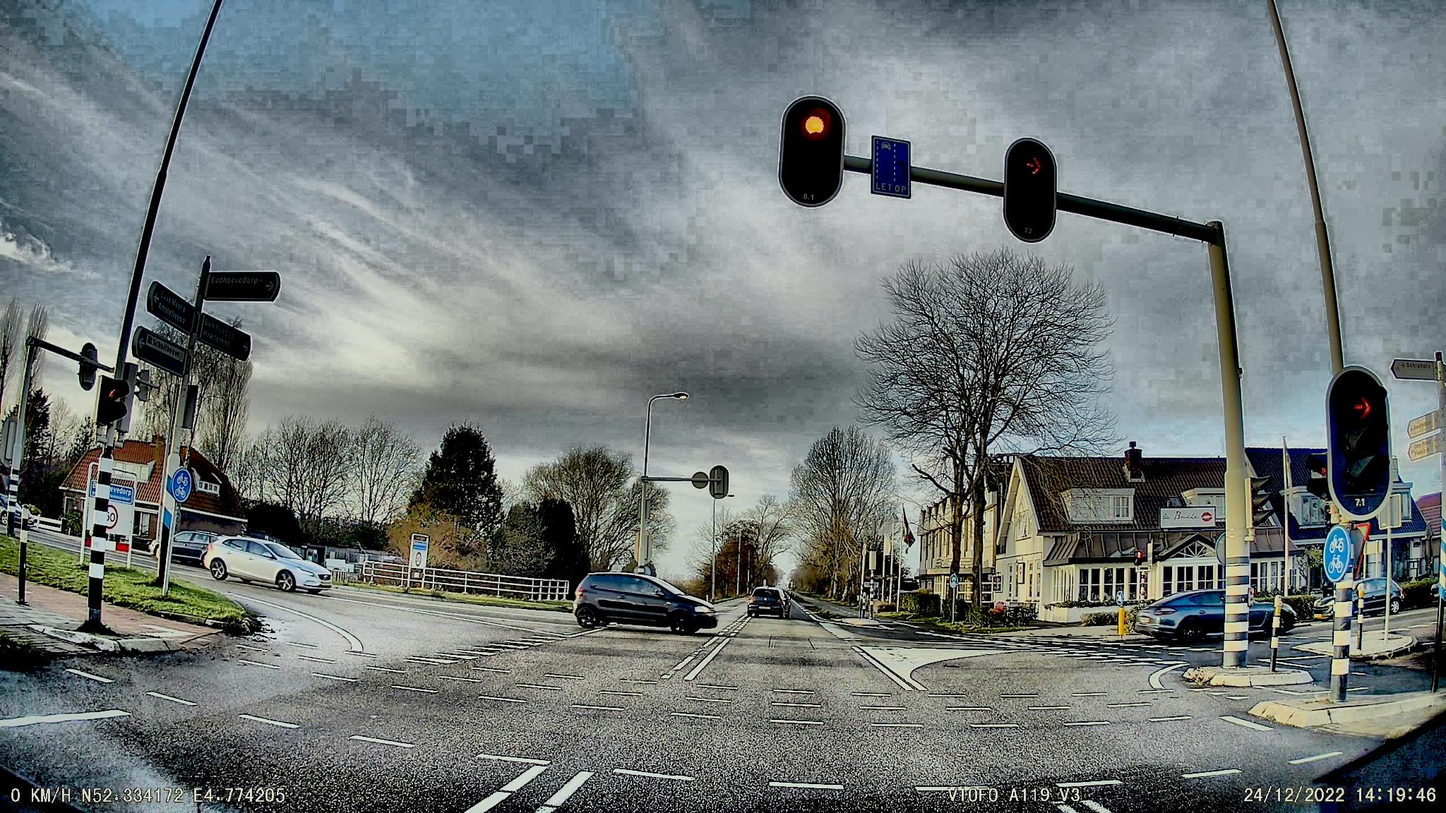Roads: (0, 585, 1446, 813)
